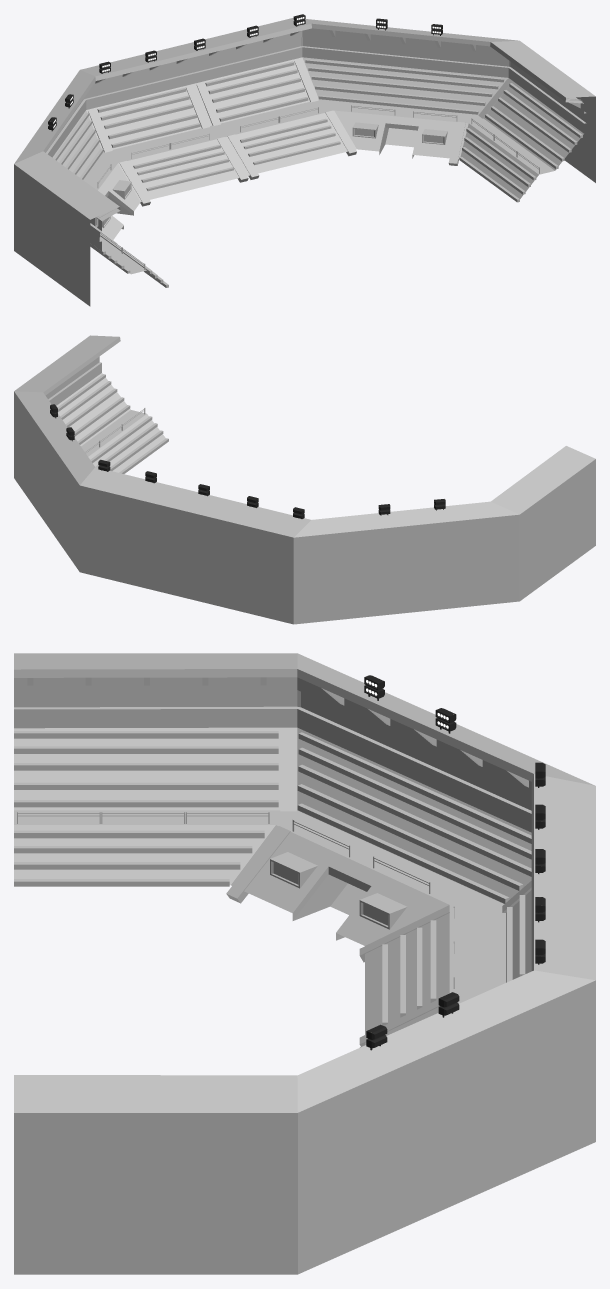
The model's file is Gradas3.fbx.
3 views of the same model, one above another, from view 1: azimuth 30°, elevation 25°; view 2: azimuth 150°, elevation 25°; view 3: azimuth 270°, elevation 25° (orthographic). The views are drawn at different scales.
Parts seen in each view (by area): view 1: Cube.135; view 2: Cube.135; view 3: Cube.135.
Boxes of the visible parts, x1,y1,x2,y2 form: Cube.135: (14, 14, 595, 306); Cube.135: (14, 335, 595, 624); Cube.135: (14, 653, 595, 1274).
Size of the model in its own units: 3436 by 698 by 1839.
